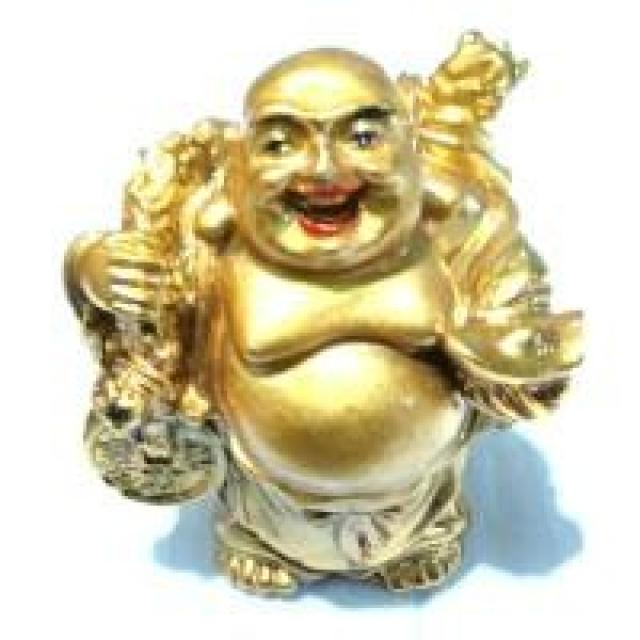Smiling Buddha: (117, 29, 528, 564)
